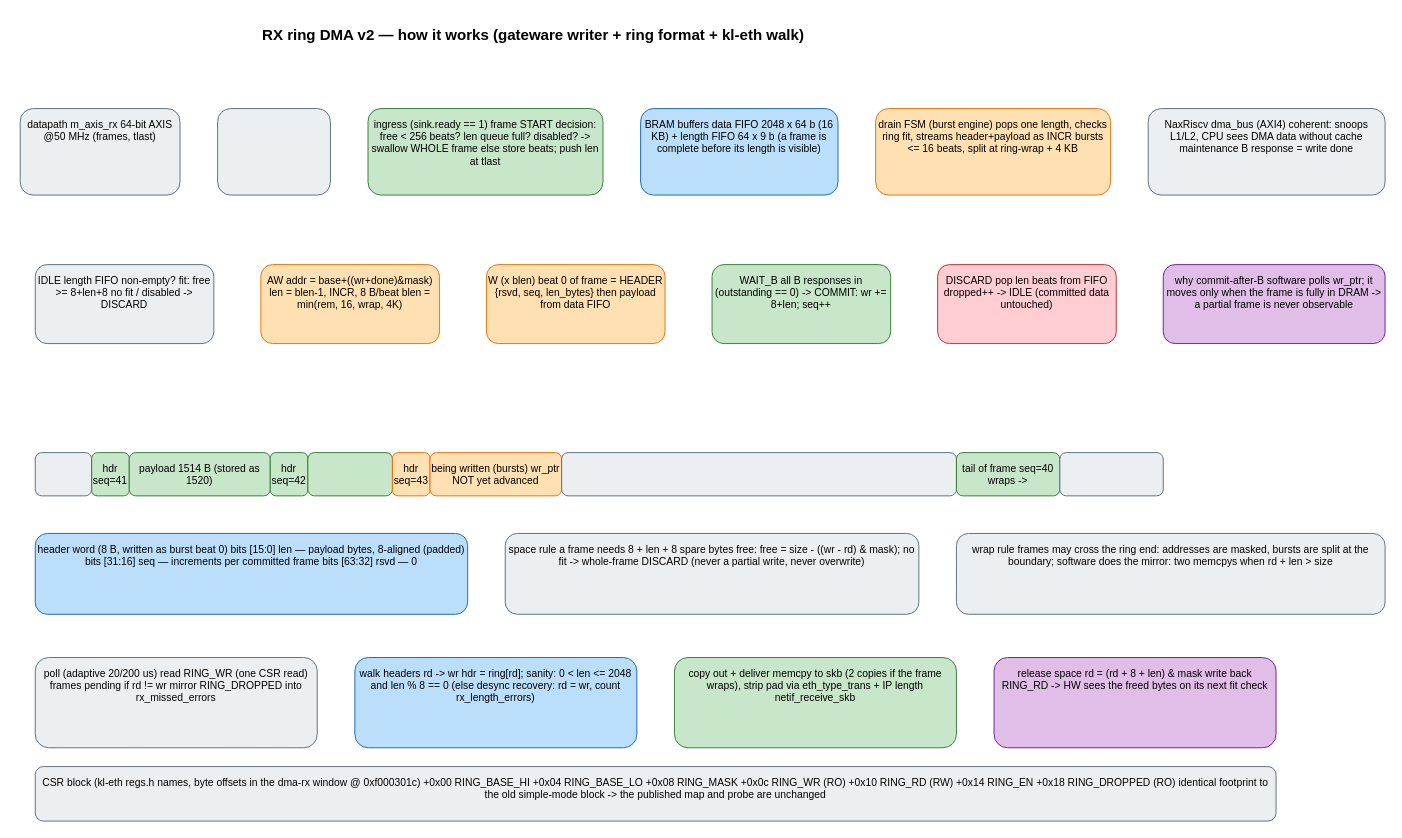
The diagram is 1402 pixels wide and 838 high, and some of its shapes have lost their labels. The centre of each missing label's shape, as x and y in pixels:
"CDC async FIFO 50 -> 100 MHz" belongs at pixel 273 151.
"consumed (free)" belongs at pixel 63 474.
"free (>= 8 spare kept: wr never catches rd)" belongs at pixel 758 474.
"payload 176 B" belongs at pixel 349 474.
